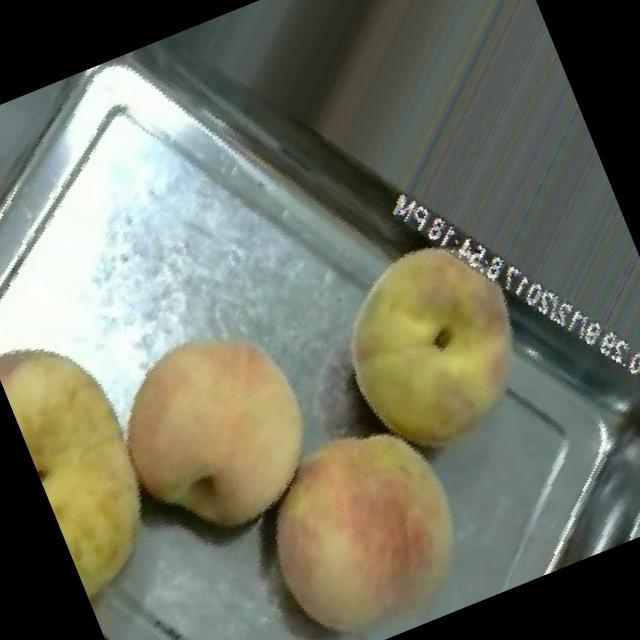Fruit: (61, 278, 374, 596), (288, 194, 578, 497), (201, 372, 509, 640), (0, 299, 219, 629)
